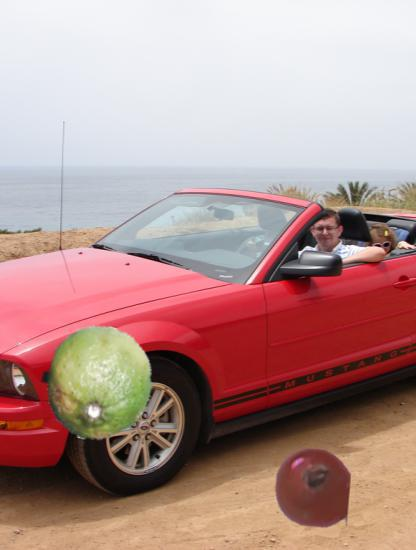Limes: (39, 325, 156, 442)
Redcurrant: (273, 448, 354, 529)
